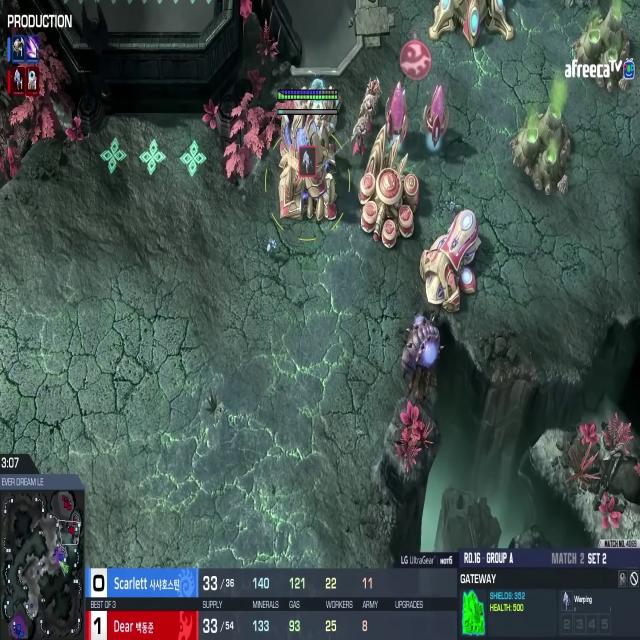adept: (350, 114, 370, 163), (359, 89, 375, 130)
overlord: (395, 303, 444, 403)
zealot: (364, 70, 383, 120)
